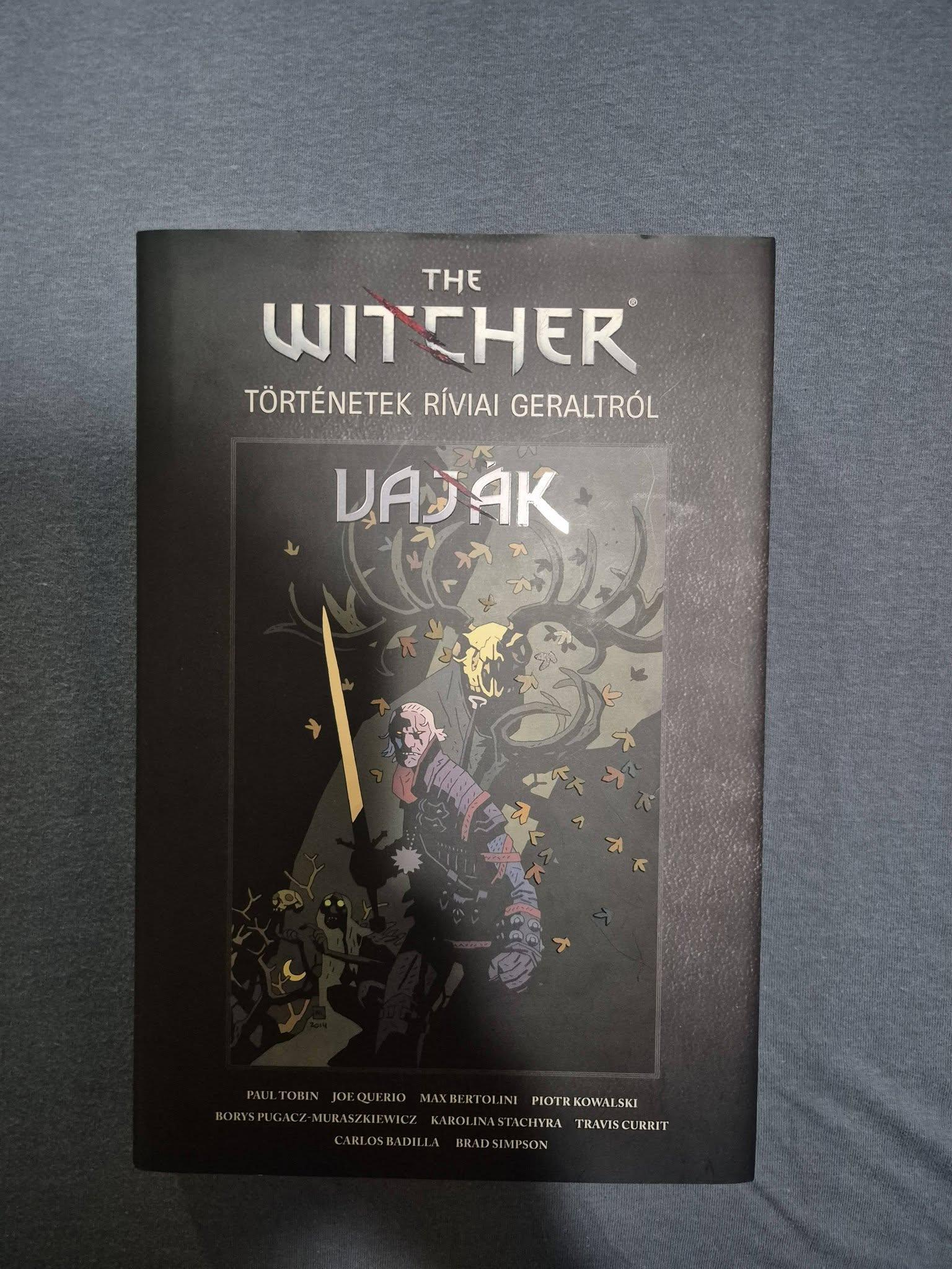comic: (134, 232, 772, 1181)
